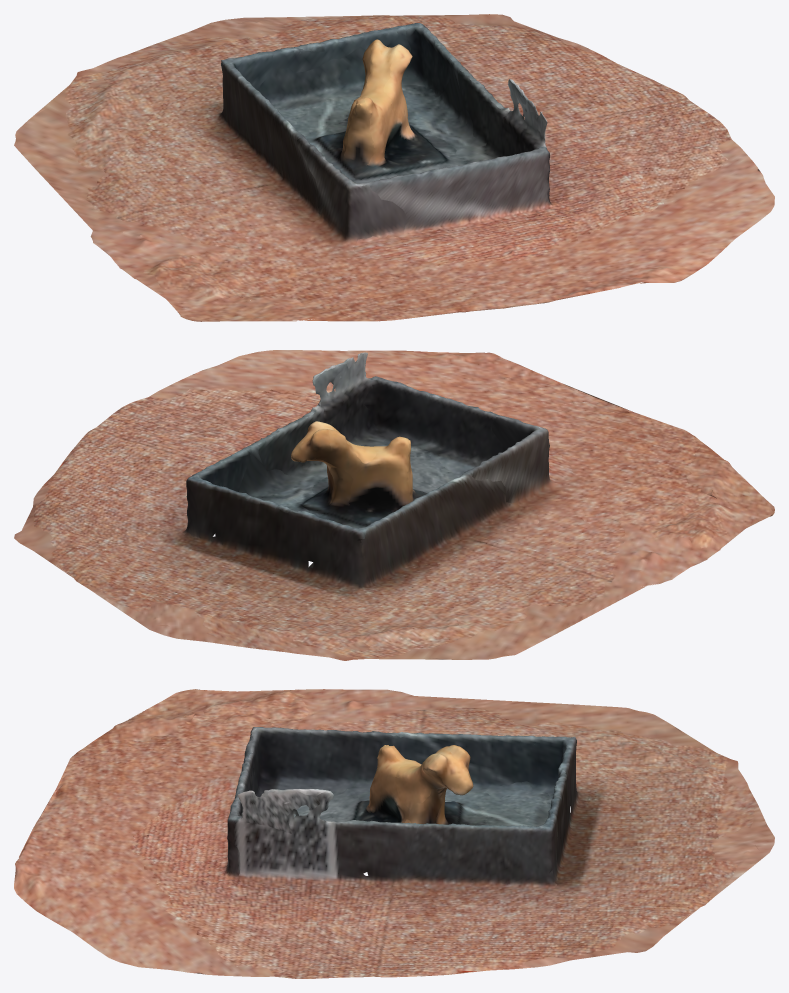
File: inu.glb
3 renders of one model, top to bottom at view 1: azimuth 30°, elevation 25°; view 2: azimuth 150°, elevation 25°; view 3: azimuth 270°, elevation 25°, orthographic. The views are drawn at different scales.
Parts seen in each view (by area): view 1: Geom; view 2: Geom; view 3: Geom.
Boxes of the visible parts, box(x1,y1,x2,y2) form: Geom: box(14, 14, 774, 321); Geom: box(14, 350, 774, 660); Geom: box(14, 689, 774, 978).
Size of the model in its own units: 0.3447 by 0.0565 by 0.3741.
1 material, 1 textured.
